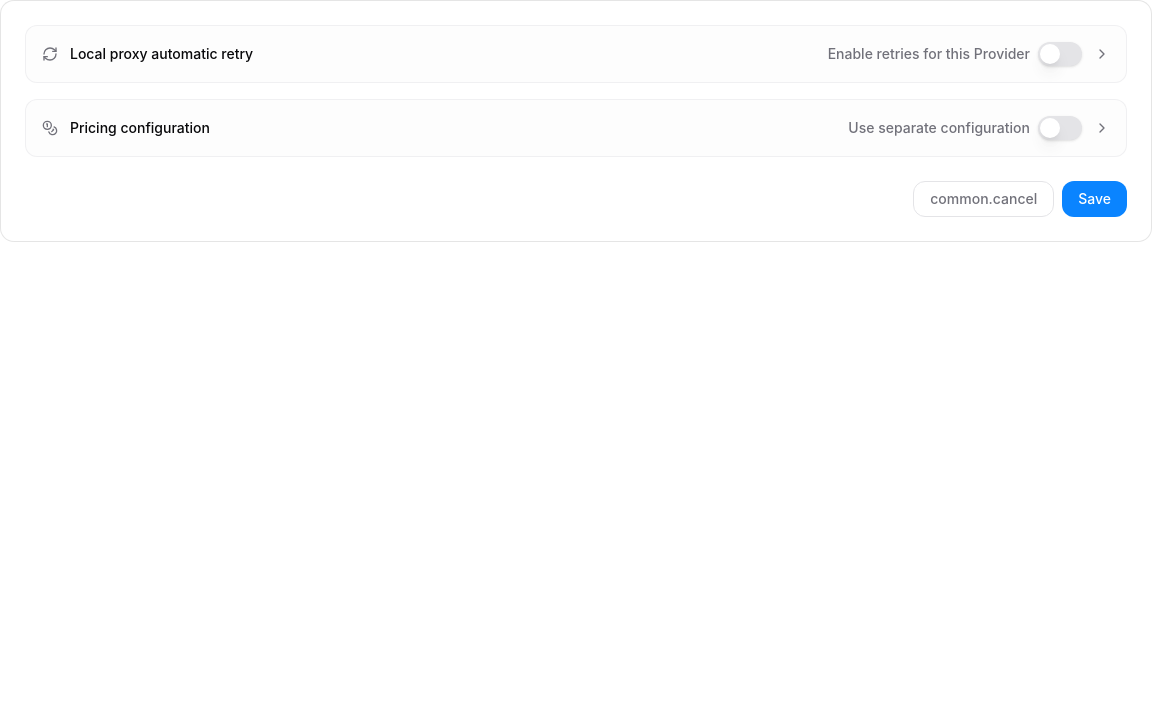
Test case: ProviderForm provider retry policy › shows the retry policy for an official claude provider
Click the button "Local proxy automatic retry" at (162,54), box top-left (42, 42), bottom-right (1110, 66)
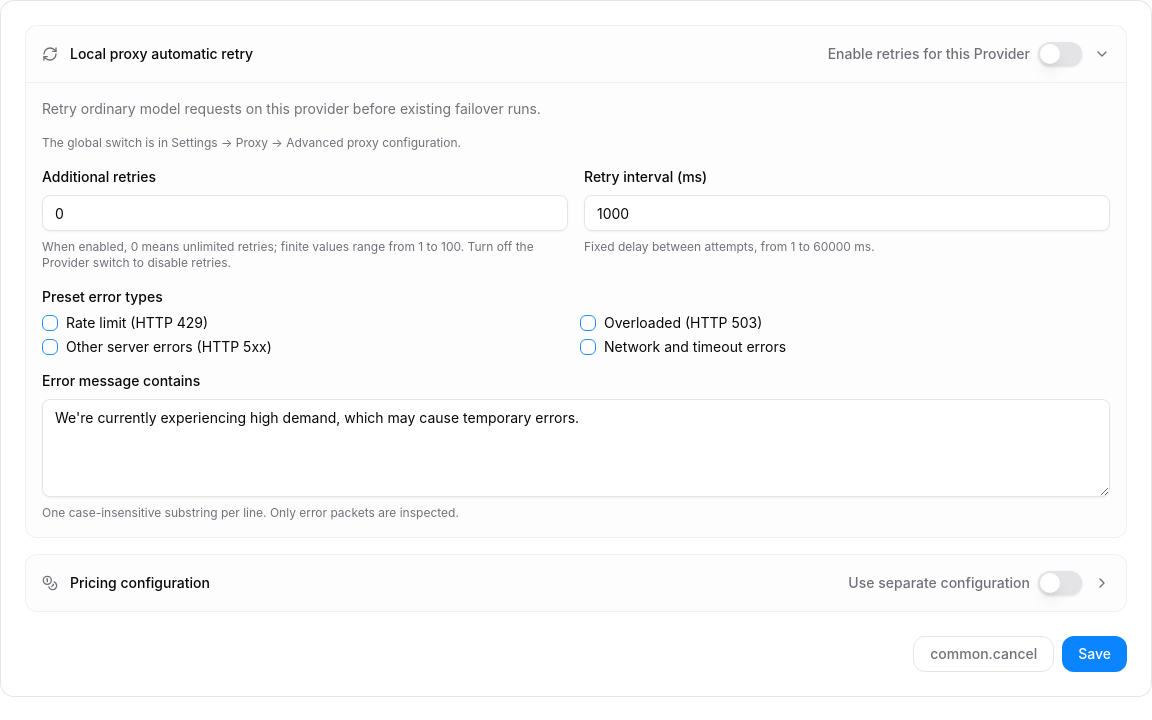
expect the number field labelled "Additional retries" is shown: met, box top-left (42, 195), bottom-right (568, 231)
